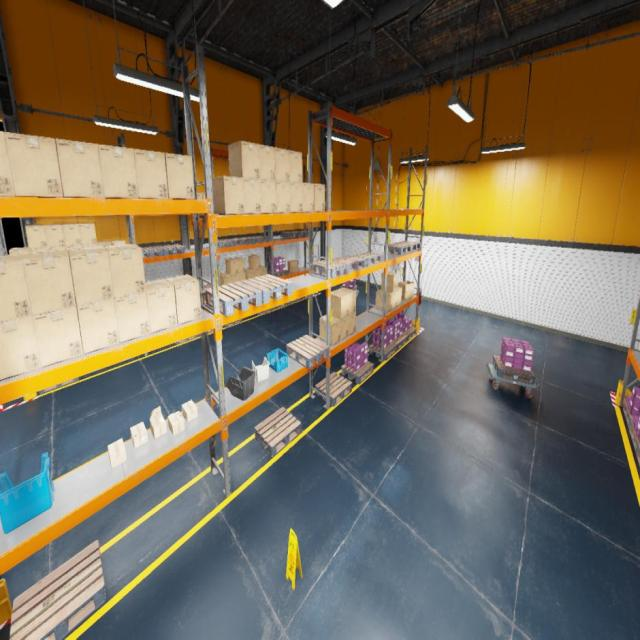box: (5, 132, 63, 198), (22, 250, 76, 315), (32, 306, 84, 368), (56, 139, 104, 198), (0, 316, 41, 381), (69, 247, 114, 306), (76, 298, 119, 354), (98, 144, 139, 198), (105, 244, 146, 298), (0, 254, 32, 322), (166, 274, 202, 324), (114, 292, 150, 342), (146, 278, 178, 333), (134, 149, 169, 199), (164, 153, 194, 200), (212, 176, 244, 214), (228, 140, 259, 179), (0, 131, 16, 196), (320, 314, 340, 346), (243, 178, 261, 213), (150, 405, 167, 439), (259, 144, 275, 180), (25, 224, 48, 248), (330, 290, 349, 319), (274, 147, 290, 181), (108, 438, 126, 468), (260, 180, 276, 213), (336, 288, 356, 314), (130, 421, 148, 448), (44, 224, 65, 247), (276, 181, 290, 213), (168, 410, 185, 436), (62, 223, 82, 245), (78, 222, 97, 245), (375, 289, 393, 312), (290, 150, 302, 182), (302, 182, 314, 212), (290, 182, 302, 212), (182, 400, 197, 422), (382, 271, 398, 291), (314, 184, 325, 212), (398, 281, 414, 300), (382, 290, 398, 308), (226, 258, 238, 274), (65, 245, 82, 255), (349, 312, 356, 336), (341, 316, 348, 340), (249, 255, 260, 269), (234, 258, 245, 272), (220, 272, 231, 286), (9, 247, 29, 254), (288, 260, 298, 272), (96, 240, 112, 247), (245, 268, 254, 280), (397, 286, 402, 306), (110, 240, 126, 245), (251, 269, 260, 277), (30, 248, 48, 252), (260, 266, 267, 276), (238, 272, 245, 282), (48, 246, 65, 250), (232, 273, 238, 283), (82, 244, 97, 248), (197, 192, 203, 198), (202, 192, 206, 198)
pallets: (9, 540, 106, 639), (255, 407, 301, 457), (205, 281, 261, 316), (241, 274, 292, 304), (286, 335, 328, 368), (493, 354, 535, 384), (316, 372, 352, 406), (341, 361, 374, 384), (312, 260, 350, 278), (39, 377, 79, 394), (332, 255, 366, 272), (369, 343, 397, 360), (623, 401, 640, 428), (353, 252, 382, 266), (629, 419, 639, 453), (157, 244, 185, 256), (384, 243, 412, 254), (396, 240, 420, 252), (142, 246, 162, 259), (393, 334, 408, 350), (175, 334, 199, 344), (402, 327, 417, 342), (229, 237, 251, 245), (218, 239, 235, 248), (281, 230, 300, 238), (223, 320, 242, 328), (247, 236, 268, 243), (257, 308, 273, 316), (268, 270, 288, 276), (636, 444, 640, 467), (204, 284, 212, 295), (340, 285, 357, 290), (294, 230, 308, 236), (199, 330, 213, 336), (276, 302, 289, 308), (289, 298, 301, 304), (301, 296, 308, 300)
